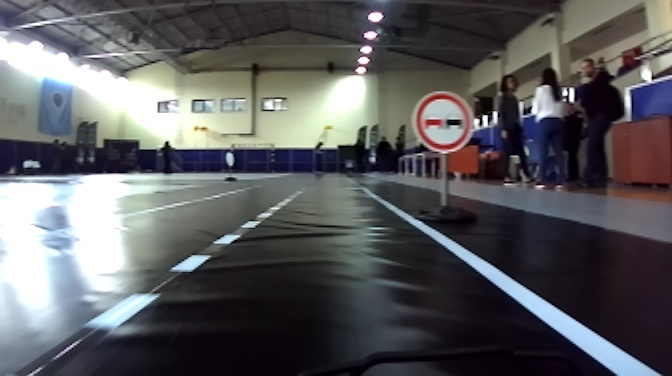sollama_yasak: (411, 89, 472, 154)
